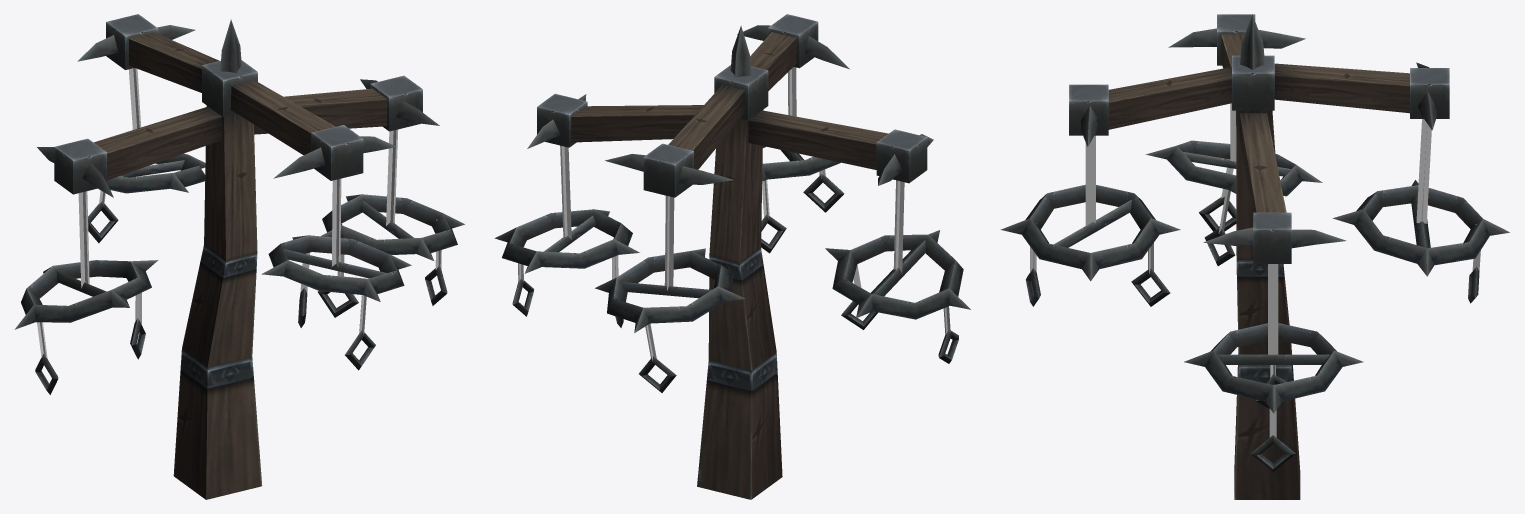
File: hacz_jiaoshoujia_01.FBX
The picture shows the model from 3 angles, left to right: view 1: azimuth 30°, elevation 25°; view 2: azimuth 150°, elevation 25°; view 3: azimuth 270°, elevation 25°; orthographic projection. The views are drawn at different scales.
Visible parts, largest first — view 1: hacz_jiaoshoujia_01; view 2: hacz_jiaoshoujia_01; view 3: hacz_jiaoshoujia_01.
Boxes of the visible parts, bbox=[...] form: hacz_jiaoshoujia_01: bbox=[14, 14, 464, 499]; hacz_jiaoshoujia_01: bbox=[494, 14, 970, 499]; hacz_jiaoshoujia_01: bbox=[1000, 14, 1509, 499].
Size of the model in its own units: 438 by 413 by 402.
